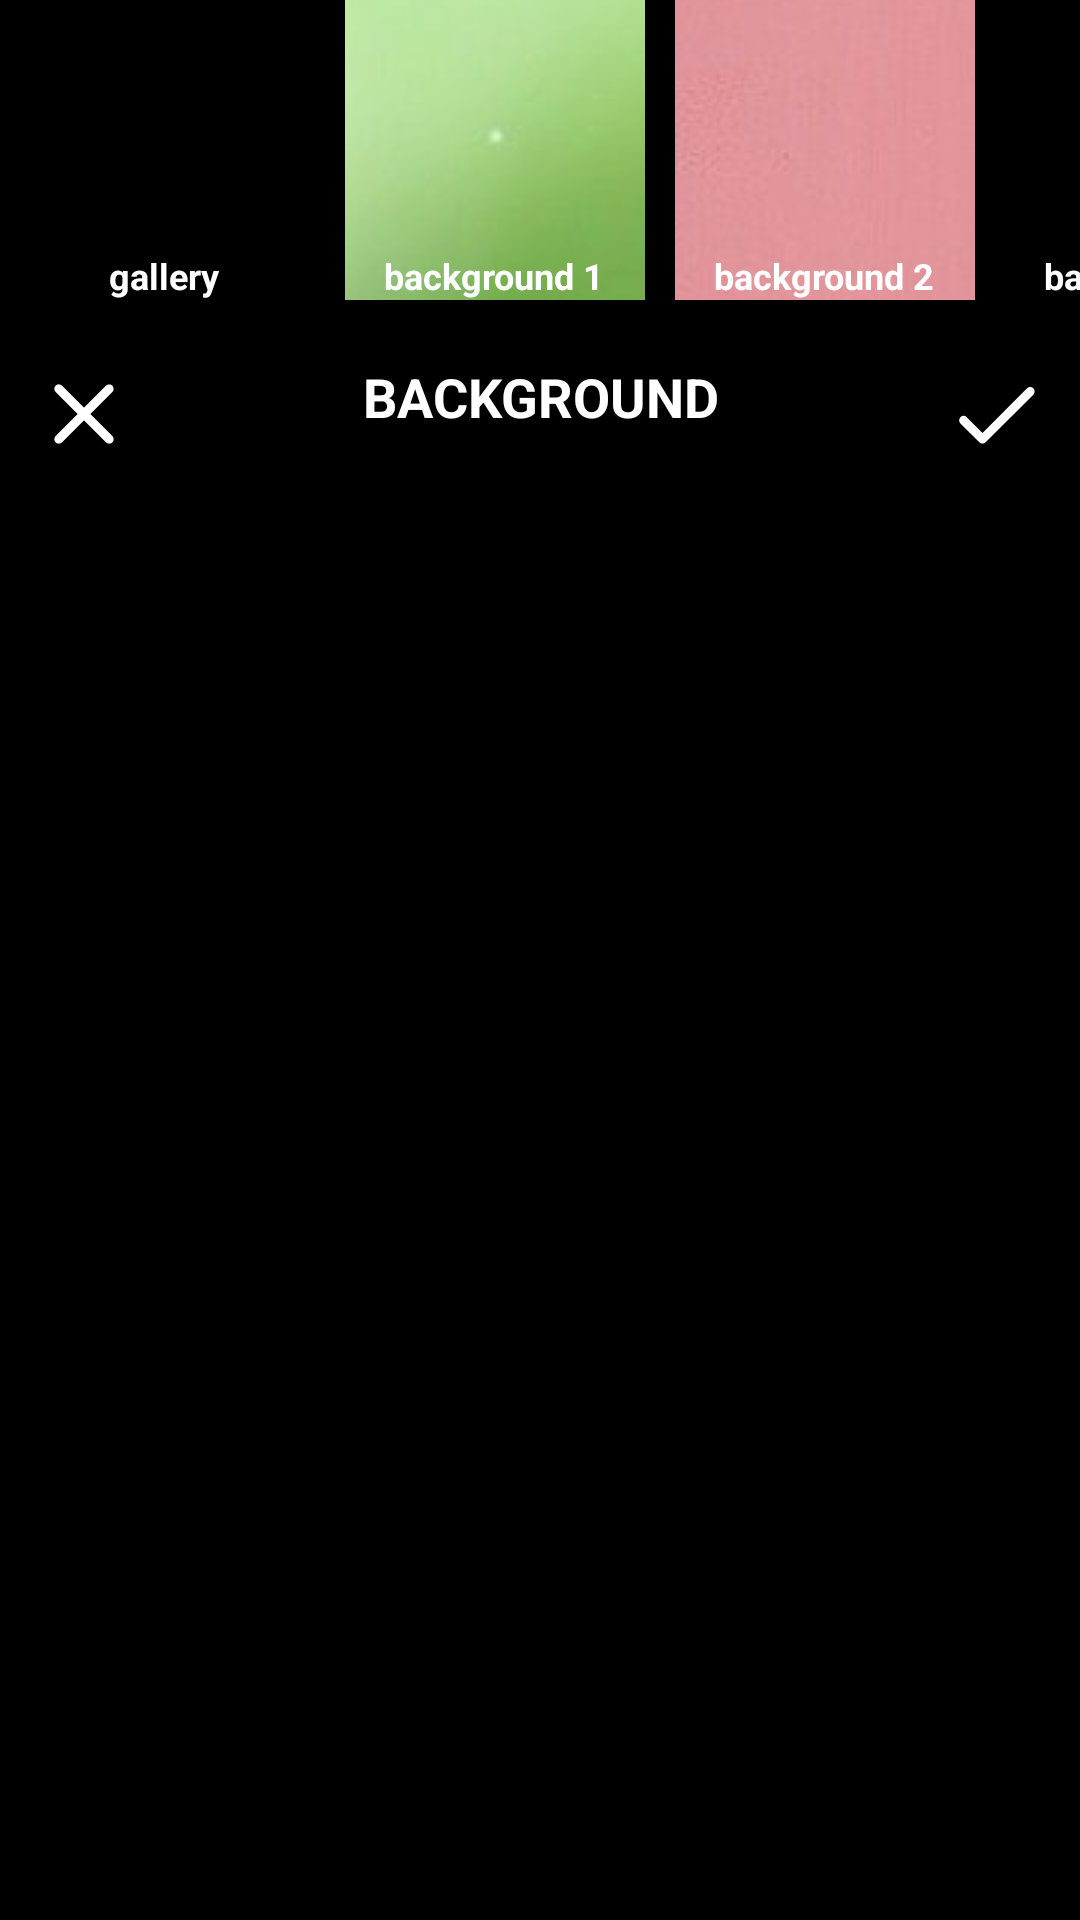

Point at icon controls on the screen. Image size 1080x1920, points as (x=x, y=y).
close: (x=84, y=414)
done: (x=997, y=415)
